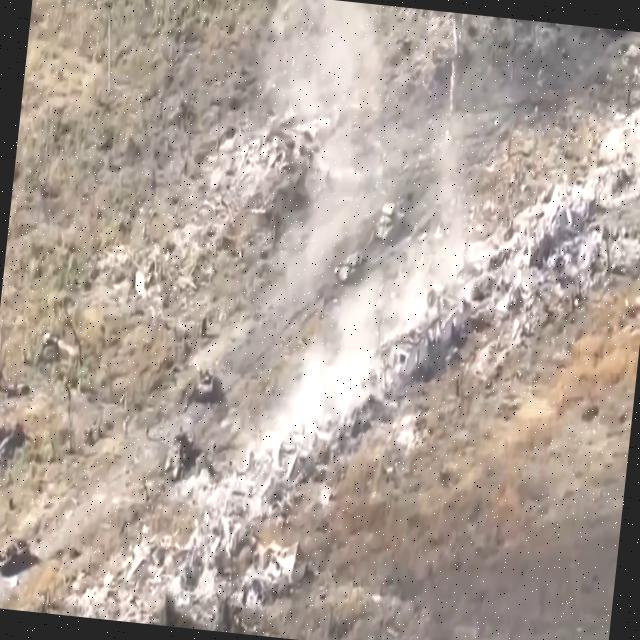AIFV: (1, 532, 34, 579), (196, 363, 218, 401)
MBT: (368, 197, 411, 248), (331, 247, 371, 294)
